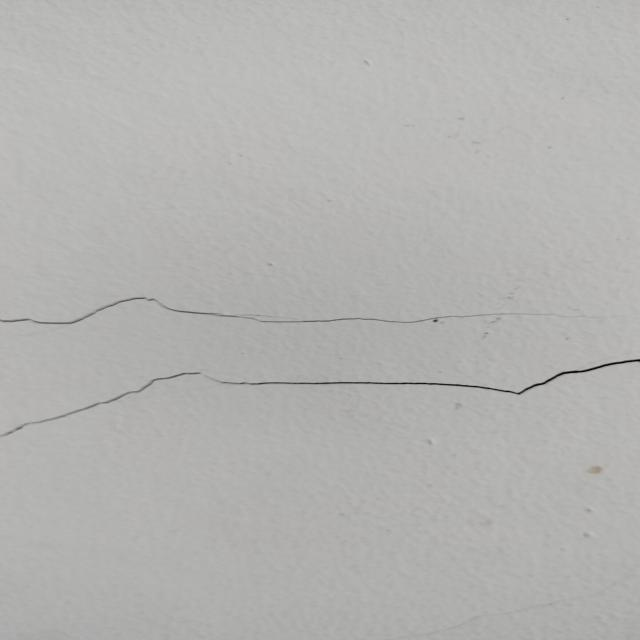Crack: (2, 357, 640, 442), (2, 288, 640, 326)
